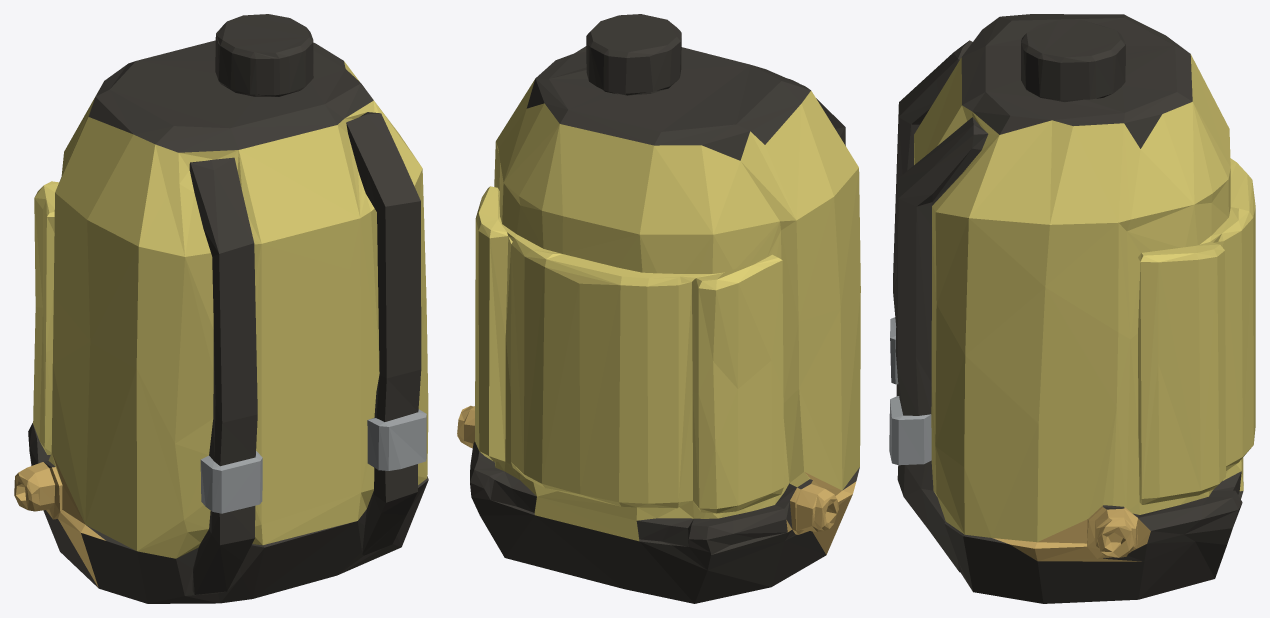
The model's file is T4_sprayer_tank_a.glb.
3 views of the same model, side by side, from view 1: azimuth 30°, elevation 25°; view 2: azimuth 150°, elevation 25°; view 3: azimuth 270°, elevation 25° (orthographic). The views are drawn at different scales.
Parts seen in each view (by area): view 1: Mesh_0; view 2: Mesh_0; view 3: Mesh_0.
Boxes of the visible parts, x1,y1,x2,y2 form: Mesh_0: (14, 14, 428, 603); Mesh_0: (457, 14, 860, 603); Mesh_0: (889, 14, 1255, 603).
Size of the model in its own units: 0.36 by 0.46 by 0.2985.
